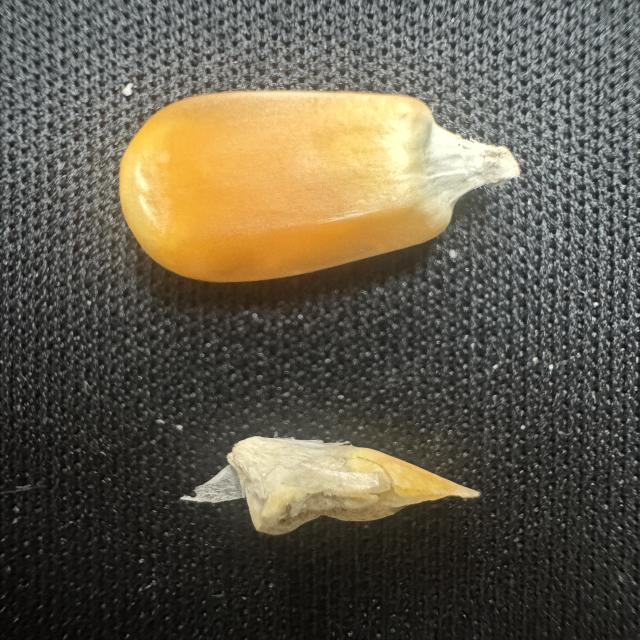Bad-Seed: (174, 402, 484, 574)
Good-Seed: (109, 78, 528, 298)
